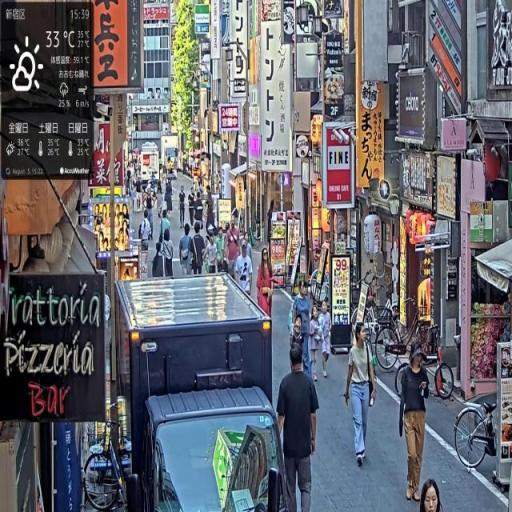person: (276, 337, 321, 512), (397, 344, 431, 503), (345, 323, 379, 467), (258, 247, 274, 324), (319, 301, 334, 381), (309, 307, 323, 381), (419, 478, 444, 512), (180, 224, 195, 280), (193, 222, 208, 276), (161, 228, 175, 279), (180, 188, 188, 229)
